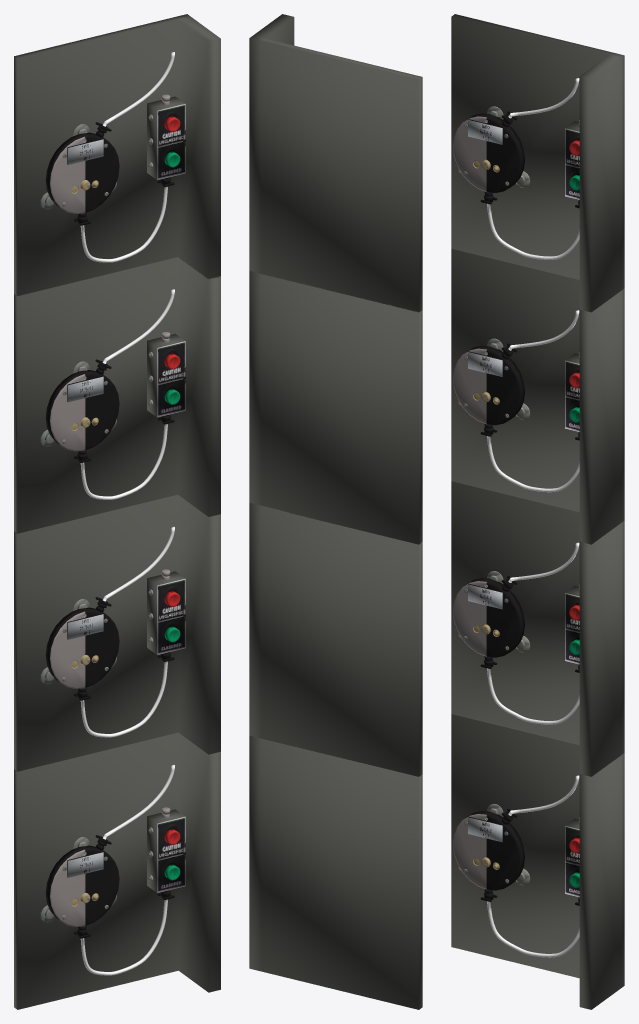
Rendered from Switchboard.obj.
3 views of the same model, side by side, from view 1: azimuth 30°, elevation 25°; view 2: azimuth 150°, elevation 25°; view 3: azimuth 330°, elevation 25° (orthographic). The views are drawn at different scales.
Visible parts, largest first — view 1: Switchboard.obj; view 2: Switchboard.obj; view 3: Switchboard.obj.
Boxes of the visible parts, x1,y1,x2,y2 form: Switchboard.obj: (14, 14, 220, 1009); Switchboard.obj: (249, 14, 422, 1009); Switchboard.obj: (451, 14, 624, 1009).
Size of the model in its own units: 16.6 by 87.1 by 5.59.
